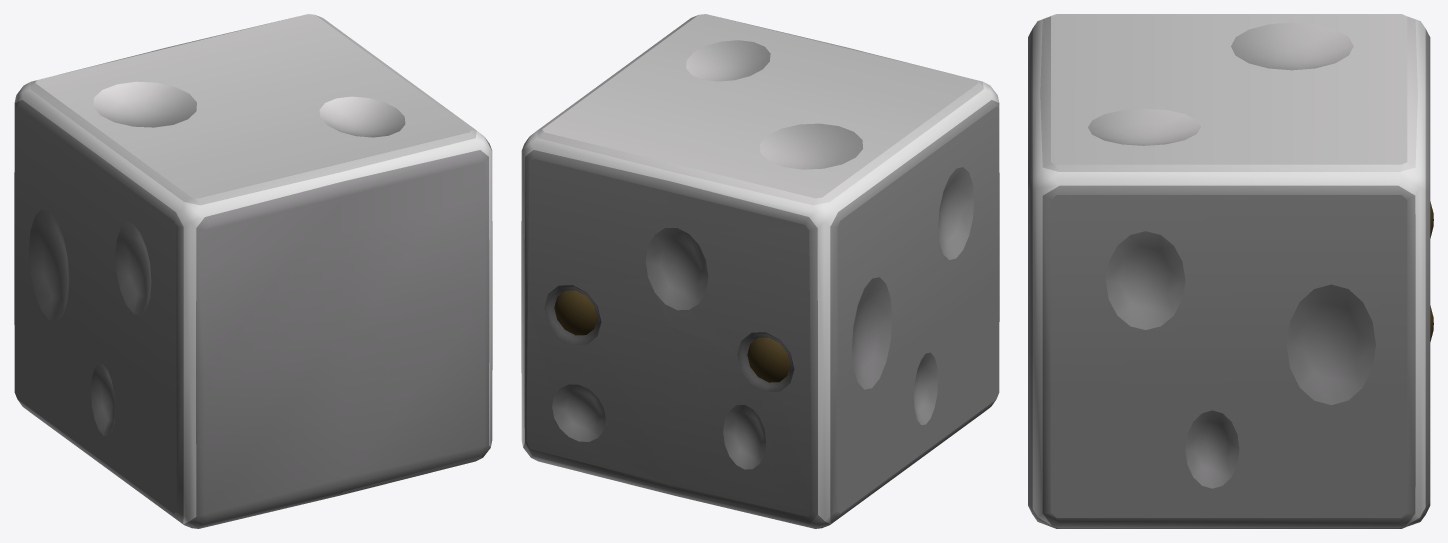
Rendered from Cubimal_Rock.fbx.
The picture shows the model from 3 angles, left to right: view 1: azimuth 30°, elevation 25°; view 2: azimuth 150°, elevation 25°; view 3: azimuth 270°, elevation 25°; orthographic projection. The views are drawn at different scales.
Parts seen in each view (by area): view 1: Body; view 2: Body; view 3: Body.
Part boxes in pixels (box(x1,y1,x2,y2)): Body: box(14, 14, 492, 528); Body: box(521, 14, 999, 528); Body: box(1028, 14, 1433, 528).
Size of the model in its own units: 20.09 by 20.09 by 20.27.
